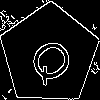Q: (24, 29, 85, 89)
